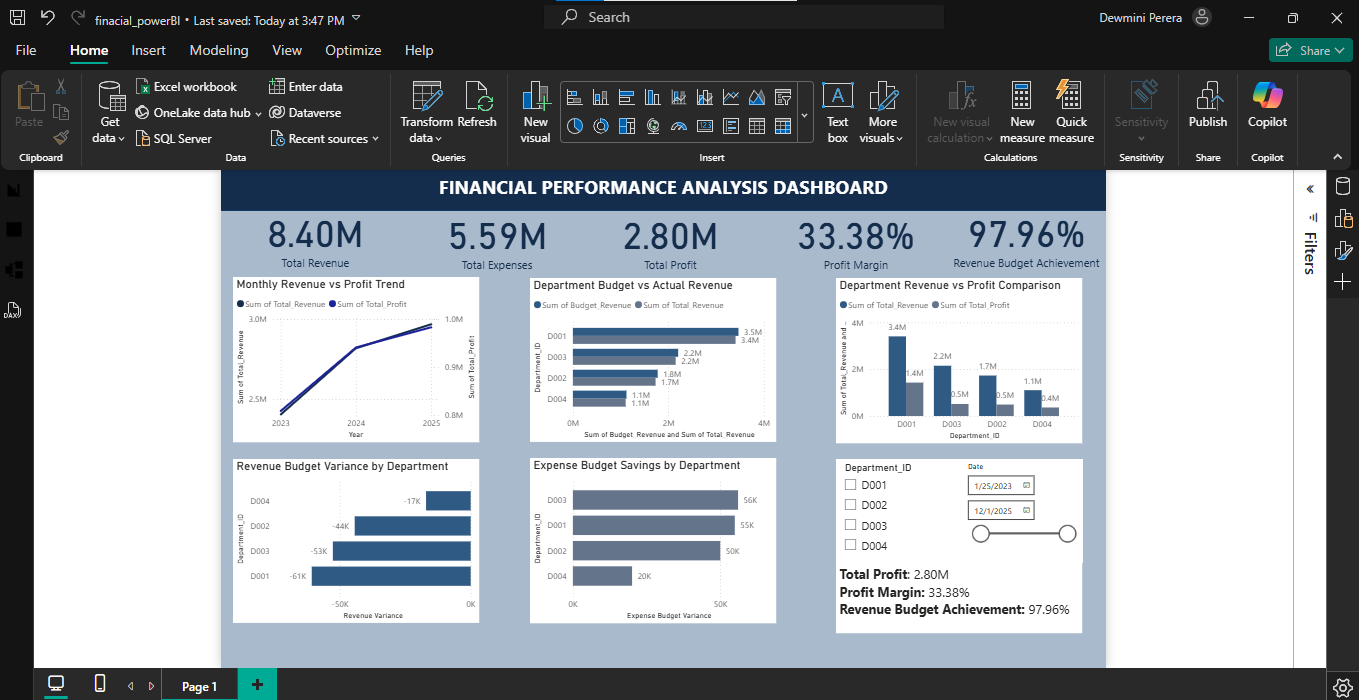

Layout of this report page (visuals, bound fields, positions):
{"tool":"powerbi","page":{"name":"Page 1","canvas":[1280,720],"ordinal":0},"visuals":[{"type":"card","fields":{"Values":["Department Analysis.Total Revenue"]},"box":[17.3,37.6,238.6,115.7],"z":0},{"type":"card","fields":{"Values":["Department Analysis.Total Expenses"]},"box":[283.4,41.9,231.3,114.2],"z":1000},{"type":"card","fields":{"Values":["Department Analysis.Total Profit"]},"box":[534.9,41.9,229.9,114.2],"z":2000},{"type":"card","fields":{"Values":["Department Analysis.Profit Margin"]},"box":[802.4,41.9,231.3,114.2],"z":3000},{"type":"card","fields":{"Values":["Department Analysis.Revenue Budget Achievement"]},"box":[1049.6,39,229.9,114.2],"z":4000},{"type":"lineChart","title":"Monthly Revenue vs Profit Trend","fields":{"Category":["Monthly Trends.Date.Variation.Date Hierarchy.Year","Monthly Trends.Date.Variation.Date Hierarchy.Quarter","Monthly Trends.Date.Variation.Date Hierarchy.Month","Monthly Trends.Date.Variation.Date Hierarchy.Day"],"Y":["Sum(Monthly Trends.Total_Revenue)"],"Y2":["Sum(Monthly Trends.Total_Profit)"]},"box":[17.3,154.7,355.7,238.6],"z":5000},{"type":"clusteredColumnChart","title":"Department Revenue vs Profit Comparison","fields":{"Category":["Department Analysis.Department_ID"],"Y":["Sum(Department Analysis.Total_Revenue)","Sum(Department Analysis.Total_Profit)"]},"box":[889.2,156.1,355.7,238.6],"z":6000},{"type":"clusteredBarChart","title":"Department Budget vs Actual Revenue","fields":{"Category":["Department Analysis.Department_ID"],"Y":["Sum(Department Analysis.Budget_Revenue)","Sum(Department Analysis.Total_Revenue)"]},"box":[446.7,156.1,355.7,237.1],"z":7000},{"type":"slicer","fields":{"Values":["Department Analysis.Department_ID"]},"box":[889,417.3,177.8,149.9],"z":8000},{"type":"slicer","fields":{"Values":["Monthly Trends.Date"]},"box":[1067,417.8,177.8,148.9],"z":9000},{"type":"clusteredBarChart","title":"Revenue Budget Variance by Department","fields":{"Category":["Department Analysis.Department_ID"],"Y":["Department Analysis.Revenue Variance"]},"box":[17.3,417.8,355.7,237.1],"z":10000},{"type":"clusteredBarChart","title":"Expense Budget Savings by Department","fields":{"Category":["Department Analysis.Department_ID"],"Y":["Department Analysis.Expense Budget Variance"]},"box":[446.7,416.4,355.7,238.6],"z":11000},{"type":"textbox","box":[889,567.2,355.6,102.9],"z":12000},{"type":"shape","box":[0,0,1279.5,59.3],"z":13000},{"type":"textbox","box":[0,0,1279.5,59.3],"z":14000}]}

Visuals, with their boxes on the page's 1280x720 design canvas (x1, y1, x2, y2). These are canvas units, not pixel positions in the 1359x700 screenshot, which may show the page scaled, cropped or inside an application window:
card - Department Analysis.Total Revenue: BBox(17, 38, 256, 153)
card - Department Analysis.Total Expenses: BBox(283, 42, 515, 156)
card - Department Analysis.Total Profit: BBox(535, 42, 765, 156)
card - Department Analysis.Profit Margin: BBox(802, 42, 1034, 156)
card - Department Analysis.Revenue Budget Achievement: BBox(1050, 39, 1280, 153)
"Monthly Revenue vs Profit Trend" lineChart: BBox(17, 155, 373, 393)
"Department Revenue vs Profit Comparison" clusteredColumnChart: BBox(889, 156, 1245, 395)
"Department Budget vs Actual Revenue" clusteredBarChart: BBox(447, 156, 802, 393)
slicer - Department Analysis.Department_ID: BBox(889, 417, 1067, 567)
slicer - Monthly Trends.Date: BBox(1067, 418, 1245, 567)
"Revenue Budget Variance by Department" clusteredBarChart: BBox(17, 418, 373, 655)
"Expense Budget Savings by Department" clusteredBarChart: BBox(447, 416, 802, 655)
textbox: BBox(889, 567, 1245, 670)
shape: BBox(0, 0, 1280, 59)
textbox: BBox(0, 0, 1280, 59)
